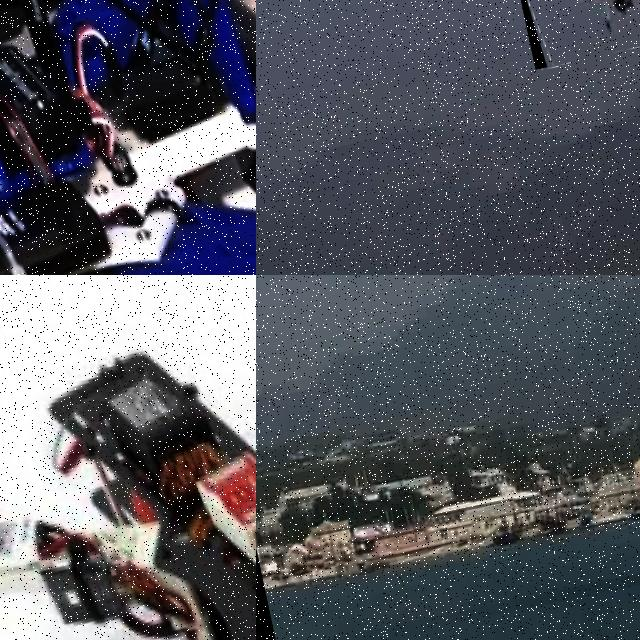drone: (0, 275, 256, 640), (0, 0, 256, 275), (507, 0, 640, 68)
